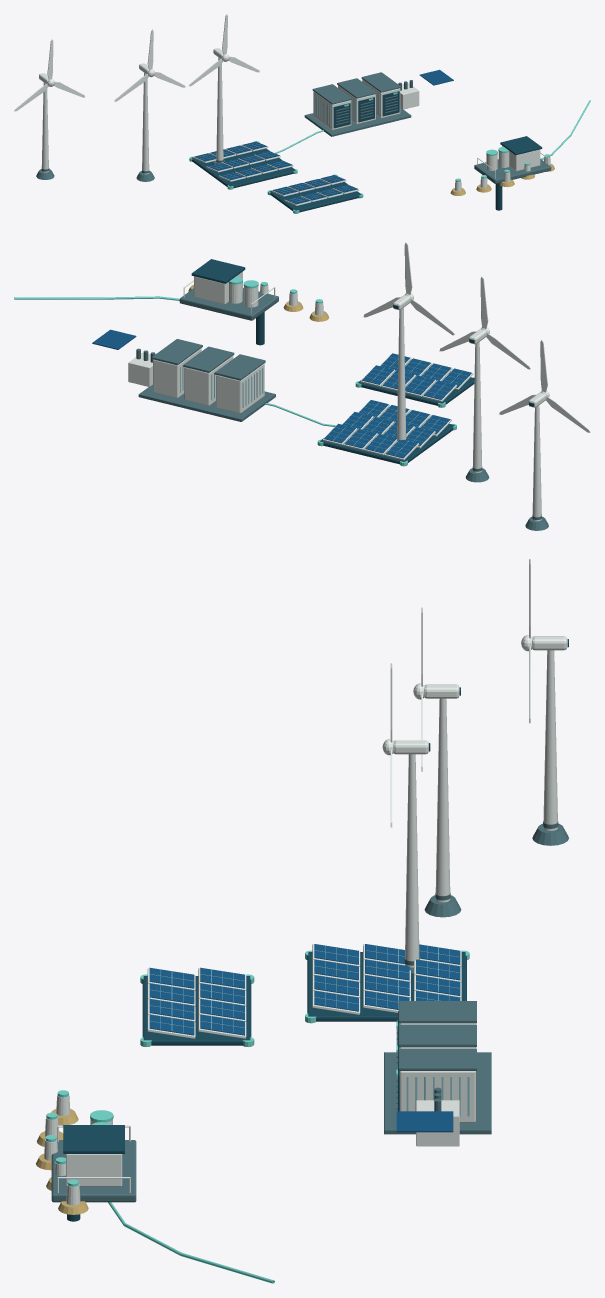
The model's file is blue-grid-energy-kit.glb.
3 views of the same model, one above another, from view 1: azimuth 30°, elevation 25°; view 2: azimuth 150°, elevation 25°; view 3: azimuth 270°, elevation 25° (orthographic). The views are drawn at different scales.
Parts seen in each view (by area): view 1: Battery_Storage | Anodized blue grey, Battery_Storage | Porcelain | turbine and enclosure, Floating_PV_0 | Photovoltaic blue, Floating_PV_0 | Marine blue, Battery_Storage | Marine blue, Floating_PV_1 | Photovoltaic blue, Floating_PV_1 | Marine blue, OTEC_Facility | Porcelain | turbine and enclosure, OTEC_Facility | Anodized blue grey, OTEC_Facility | Marine blue, Wind_2 | Porcelain | turbine and enclosure, Floating_PV_0 | Porcelain | turbine and enclosure (+10 smaller); view 2: Battery_Storage | Porcelain | turbine and enclosure, Battery_Storage | Anodized blue grey, Floating_PV_0 | Photovoltaic blue, Floating_PV_1 | Photovoltaic blue, OTEC_Facility | Porcelain | turbine and enclosure, OTEC_Facility | Anodized blue grey, Wind_2 | Porcelain | turbine and enclosure, Wind_1 | Porcelain | turbine and enclosure, OTEC_Facility | Marine blue, Wind_0 | Porcelain | turbine and enclosure, Rotor_0 | Porcelain | turbine and enclosure, Floating_PV_0 | Porcelain | turbine and enclosure (+10 smaller); view 3: Battery_Storage | Anodized blue grey, Floating_PV_0 | Photovoltaic blue, Floating_PV_1 | Photovoltaic blue, Battery_Storage | Porcelain | turbine and enclosure, Wind_2 | Porcelain | turbine and enclosure, Wind_1 | Porcelain | turbine and enclosure, Wind_0 | Porcelain | turbine and enclosure, OTEC_Facility | Anodized blue grey, Floating_PV_1 | Marine blue, OTEC_Facility | Porcelain | turbine and enclosure, OTEC_Facility | Marine blue, Floating_PV_0 | Marine blue (+4 smaller).
Boxes of the visible parts, <box> form: Battery_Storage | Anodized blue grey: <box>304,72,412,136</box>; Battery_Storage | Porcelain | turbine and enclosure: <box>313,79,419,130</box>; Floating_PV_0 | Photovoltaic blue: <box>194,141,292,179</box>; Floating_PV_0 | Marine blue: <box>191,148,295,188</box>; Battery_Storage | Marine blue: <box>333,91,399,128</box>; Floating_PV_1 | Photovoltaic blue: <box>273,175,357,204</box>; Floating_PV_1 | Marine blue: <box>269,179,361,212</box>; OTEC_Facility | Porcelain | turbine and enclosure: <box>477,146,548,178</box>; OTEC_Facility | Anodized blue grey: <box>474,159,551,183</box>; OTEC_Facility | Marine blue: <box>495,136,542,210</box>; Wind_2 | Porcelain | turbine and enclosure: <box>213,48,223,163</box>; Floating_PV_0 | Porcelain | turbine and enclosure: <box>193,145,293,181</box>; Battery_Storage | Porcelain | turbine and enclosure: <box>128,348,264,413</box>; Battery_Storage | Anodized blue grey: <box>136,339,275,421</box>; Floating_PV_0 | Photovoltaic blue: <box>324,400,450,458</box>; Floating_PV_1 | Photovoltaic blue: <box>362,353,471,399</box>; OTEC_Facility | Porcelain | turbine and enclosure: <box>183,271,275,313</box>; OTEC_Facility | Anodized blue grey: <box>179,287,278,320</box>; Wind_2 | Porcelain | turbine and enclosure: <box>393,295,410,440</box>; Wind_1 | Porcelain | turbine and enclosure: <box>469,329,486,472</box>; OTEC_Facility | Marine blue: <box>191,259,264,345</box>; Wind_0 | Porcelain | turbine and enclosure: <box>528,392,546,521</box>; Rotor_0 | Porcelain | turbine and enclosure: <box>499,339,590,432</box>; Floating_PV_0 | Porcelain | turbine and enclosure: <box>323,400,451,460</box>; Battery_Storage | Anodized blue grey: <box>384,1001,491,1134</box>; Floating_PV_0 | Photovoltaic blue: <box>314,944,460,1011</box>; Floating_PV_1 | Photovoltaic blue: <box>149,967,244,1035</box>; Battery_Storage | Porcelain | turbine and enclosure: <box>400,1023,475,1146</box>; Wind_2 | Porcelain | turbine and enclosure: <box>393,740,428,967</box>; Wind_1 | Porcelain | turbine and enclosure: <box>424,684,459,902</box>; Wind_0 | Porcelain | turbine and enclosure: <box>532,636,567,830</box>; OTEC_Facility | Anodized blue grey: <box>51,1140,136,1202</box>; Floating_PV_1 | Marine blue: <box>142,976,251,1045</box>; OTEC_Facility | Porcelain | turbine and enclosure: <box>57,1119,130,1192</box>; OTEC_Facility | Marine blue: <box>63,1125,124,1221</box>; Floating_PV_0 | Marine blue: <box>307,952,466,1021</box>.
Bounding box in the file's own units: 23.07 × 7.91 × 10.4.
